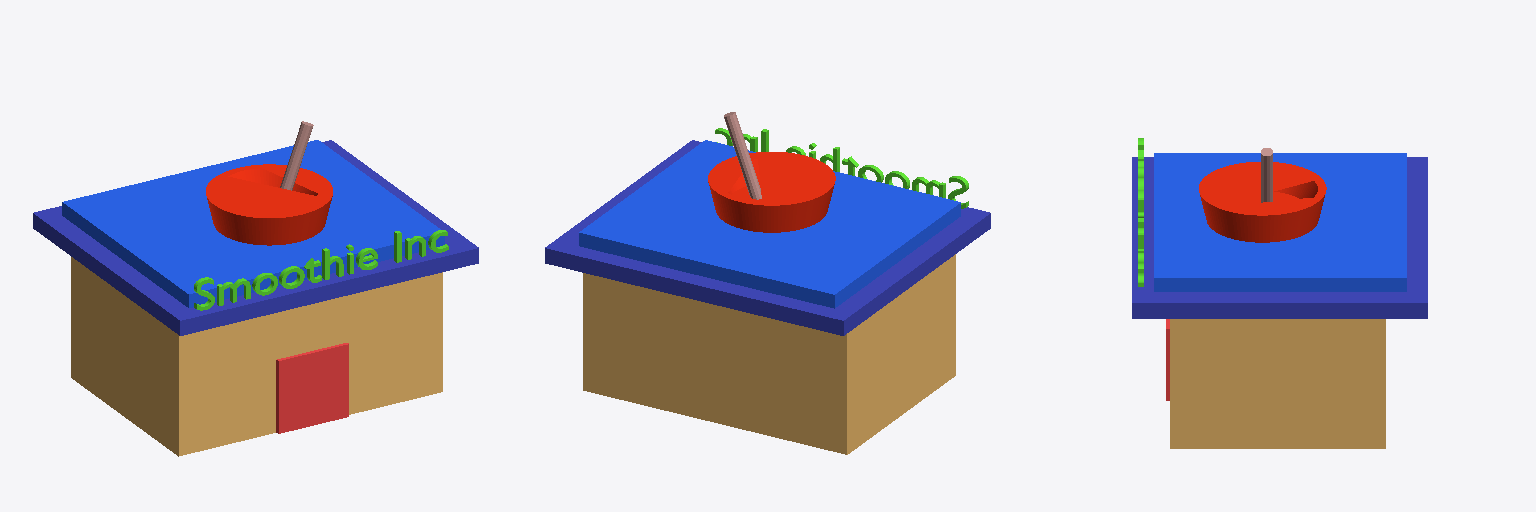
The model's file is homebase.obj.
The picture shows the model from 3 angles: view 1: azimuth 30°, elevation 25°; view 2: azimuth 150°, elevation 25°; view 3: azimuth 270°, elevation 25°; orthographic projection.
Visible parts, largest first — view 1: Cube.006, Cube.001, Cube, Cylinder.001, door, Text, Cylinder; view 2: Cube.006, Cube.001, Cube, Cylinder.001, Text, Cylinder; view 3: Cube.006, Cube.001, Cube, Cylinder.001, Text, Cylinder.
Boxes of the visible parts, x1=… form: Cube.006: x1=71, y1=257, x2=442, y2=456; Cube.001: x1=62, y1=140, x2=444, y2=307; Cube: x1=33, y1=140, x2=478, y2=335; Cylinder.001: x1=206, y1=164, x2=332, y2=245; door: x1=276, y1=343, x2=348, y2=433; Text: x1=194, y1=230, x2=448, y2=310; Cylinder: x1=280, y1=121, x2=313, y2=190; Cube.006: x1=583, y1=254, x2=955, y2=454; Cube.001: x1=579, y1=140, x2=960, y2=308; Cube: x1=545, y1=140, x2=990, y2=335; Cylinder.001: x1=708, y1=152, x2=835, y2=232; Text: x1=715, y1=128, x2=968, y2=208; Cylinder: x1=724, y1=112, x2=761, y2=199; Cube.006: x1=1170, y1=319, x2=1385, y2=448; Cube.001: x1=1154, y1=153, x2=1406, y2=291; Cube: x1=1132, y1=157, x2=1427, y2=318; Cylinder.001: x1=1199, y1=162, x2=1326, y2=242; Text: x1=1138, y1=138, x2=1143, y2=286; Cylinder: x1=1261, y1=148, x2=1272, y2=202.
Size of the model in its own units: 16.36 by 13.38 by 14.